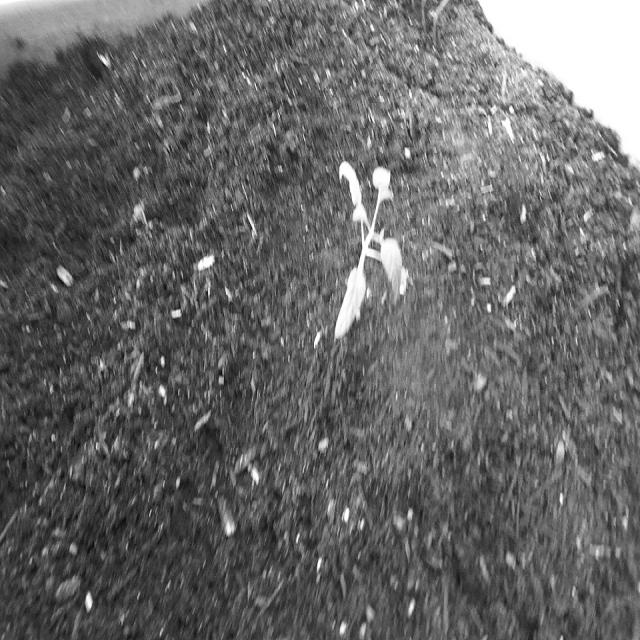Healthy: (328, 154, 410, 346)
